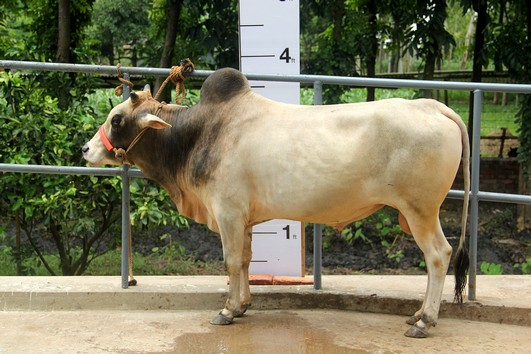cow: (76, 60, 478, 339)
